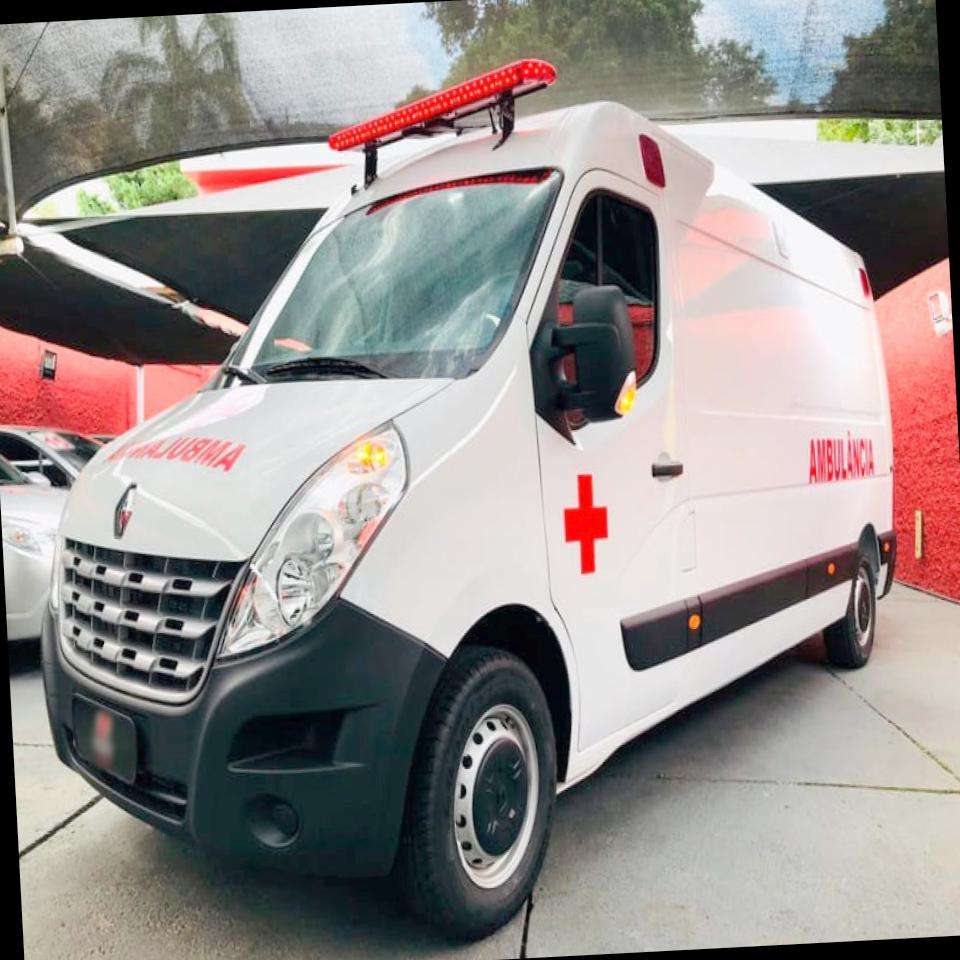bombeiro: (10, 40, 918, 960)
